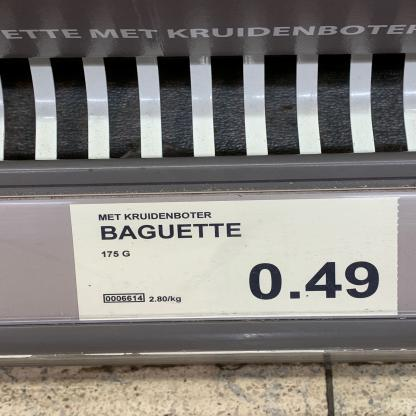prtg: (70, 197, 400, 322)
